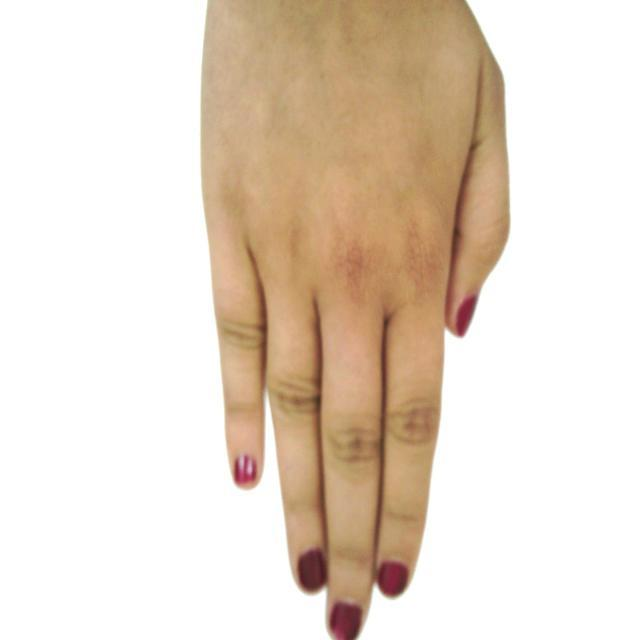Fingernail: (299, 550, 326, 593), (331, 604, 362, 639), (380, 562, 407, 597), (456, 298, 477, 336), (236, 454, 258, 486)
